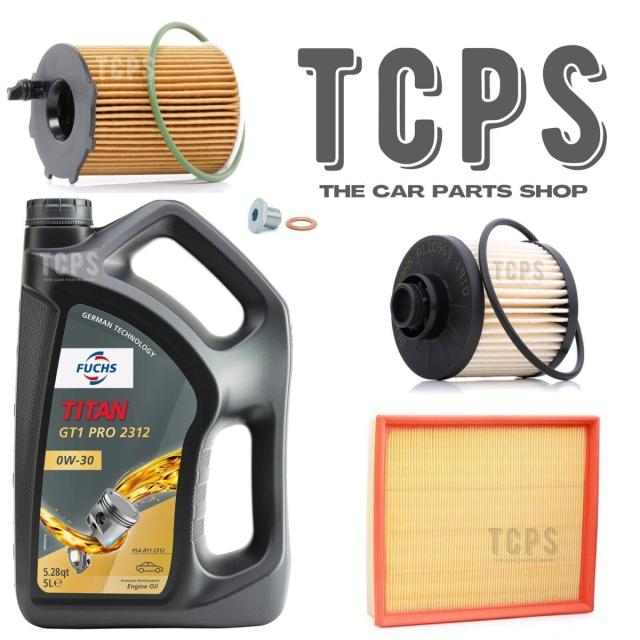air_filter: (366, 401, 604, 627)
motor_oil: (17, 191, 289, 626)
oil_filter: (12, 21, 245, 187), (385, 216, 593, 388)
